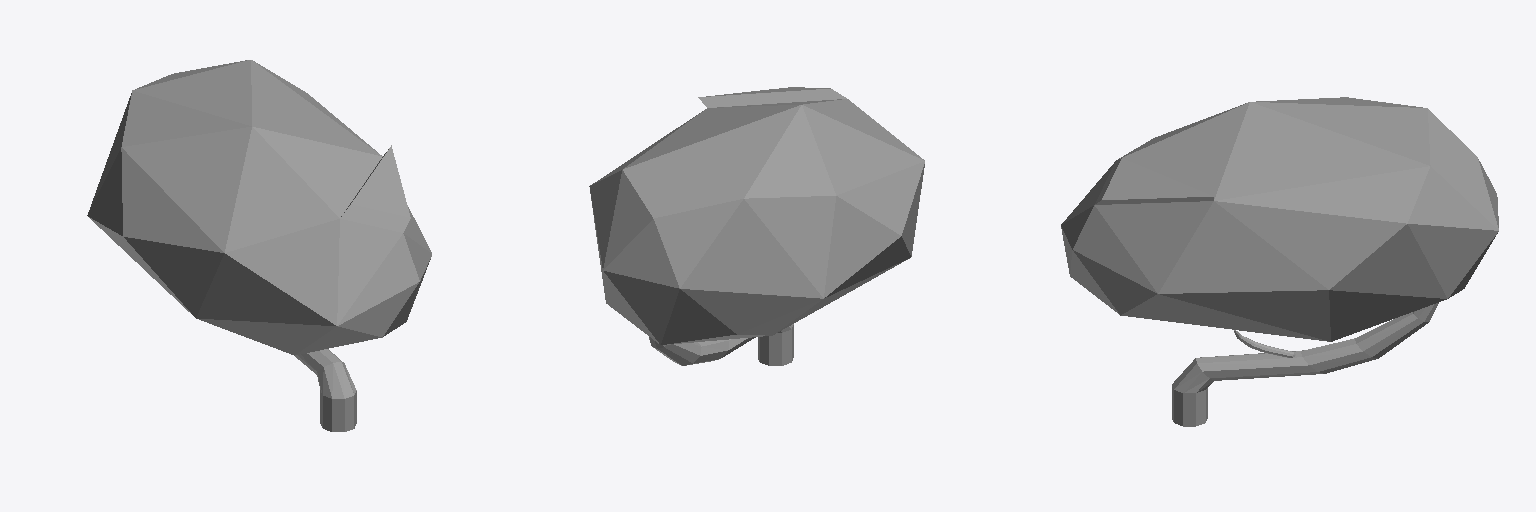
Rendered from Bush1.obj.
3 views of the same model, side by side, from view 1: azimuth 30°, elevation 25°; view 2: azimuth 150°, elevation 25°; view 3: azimuth 270°, elevation 25° (orthographic).
Parts seen in each view (by area): view 1: Cylinder; view 2: Cylinder; view 3: Cylinder.
Part boxes in pixels (x1,y1,x2,y2): Cylinder: (87, 60, 431, 431); Cylinder: (589, 87, 924, 365); Cylinder: (1061, 97, 1498, 426).
Size of the model in its own units: 2.08 by 2.17 by 2.97.